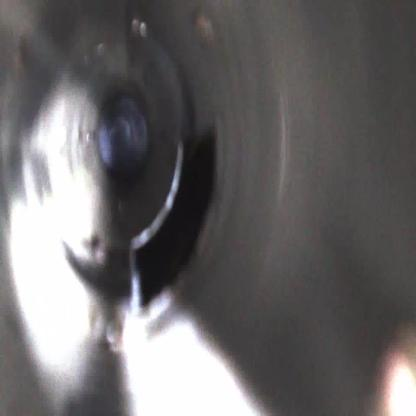Crack2: (127, 122, 221, 316)
